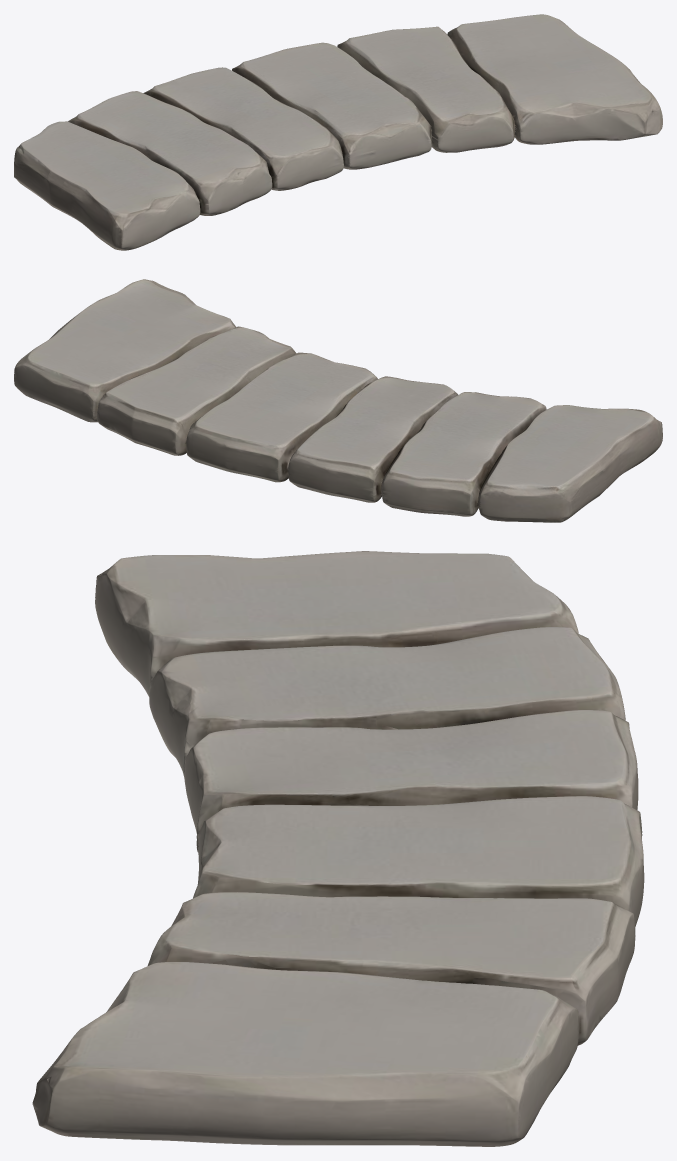
File: stone_path.glb
The picture shows the model from 3 angles, top to bottom: view 1: azimuth 30°, elevation 25°; view 2: azimuth 150°, elevation 25°; view 3: azimuth 270°, elevation 25°; orthographic projection. The views are drawn at different scales.
Parts seen in each view (by area): view 1: node_0; view 2: node_0; view 3: node_0.
Boxes of the visible parts, x1,y1,x2,y2 form: node_0: [14, 14, 662, 250]; node_0: [14, 279, 662, 522]; node_0: [32, 551, 644, 1146].
Size of the model in its own units: 1.14 by 0.0695 by 0.548.
1 material, 1 textured.
